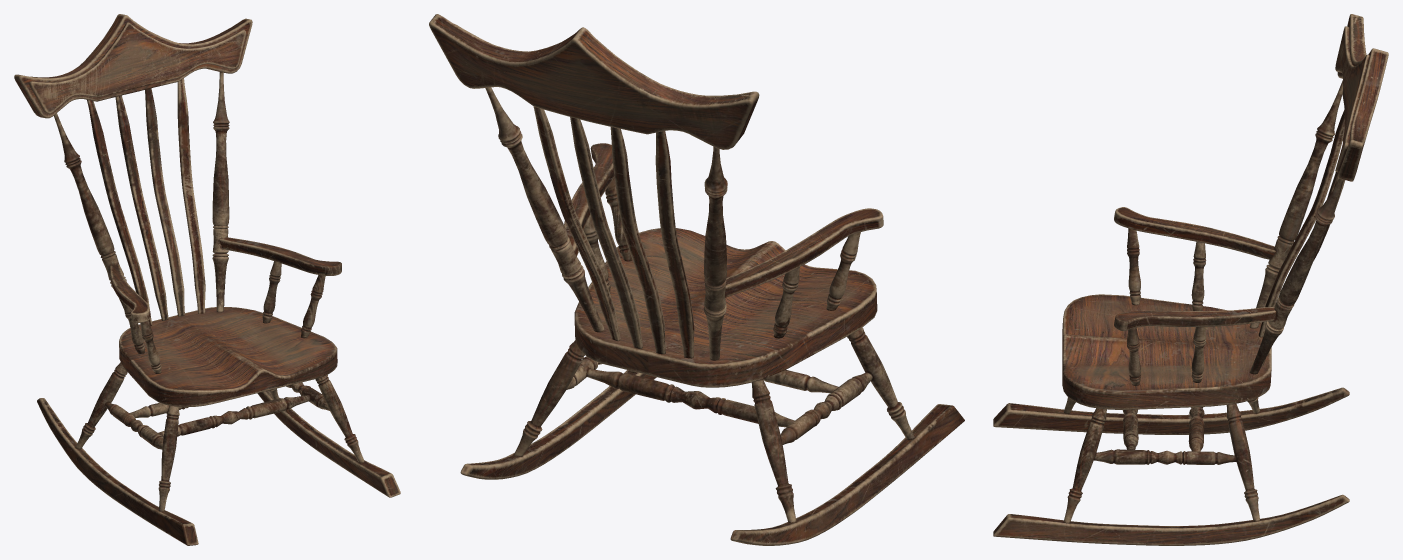
File: old_chair_object.fbx
3 views of the same model, side by side, from view 1: azimuth 30°, elevation 25°; view 2: azimuth 150°, elevation 25°; view 3: azimuth 270°, elevation 25° (orthographic). The views are drawn at different scales.
Parts seen in each view (by area): view 1: Chair; view 2: Chair; view 3: Chair.
Part boxes in pixels (<box>): Chair: <box>14,14,400,545</box>; Chair: <box>429,14,964,545</box>; Chair: <box>993,14,1388,545</box>.
Size of the model in its own units: 101 by 162 by 132.
1 material, 1 textured.
